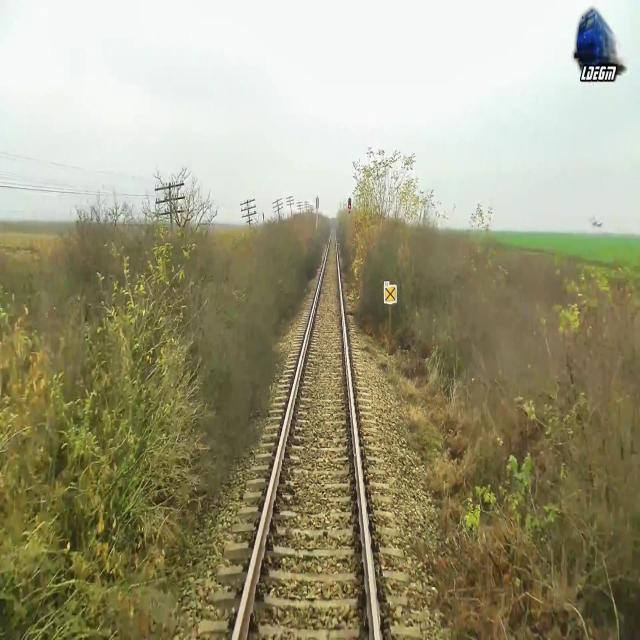rail-track: (236, 232, 375, 639)
